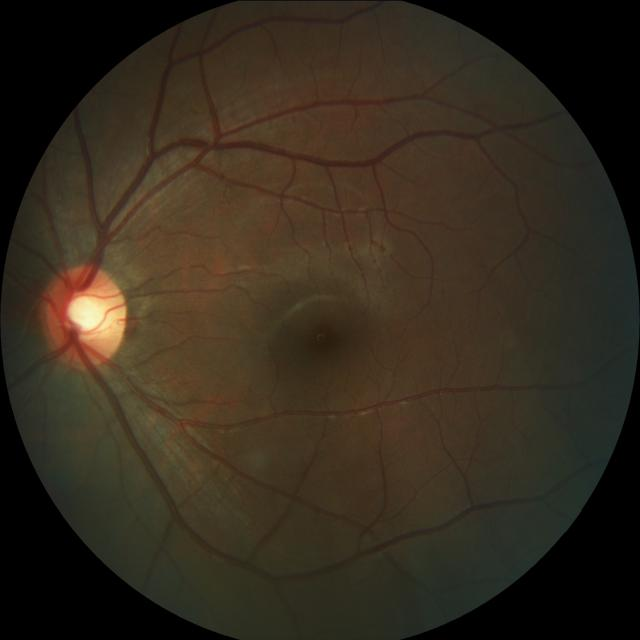OC: (64, 288, 108, 338)
OD: (42, 263, 126, 366)
